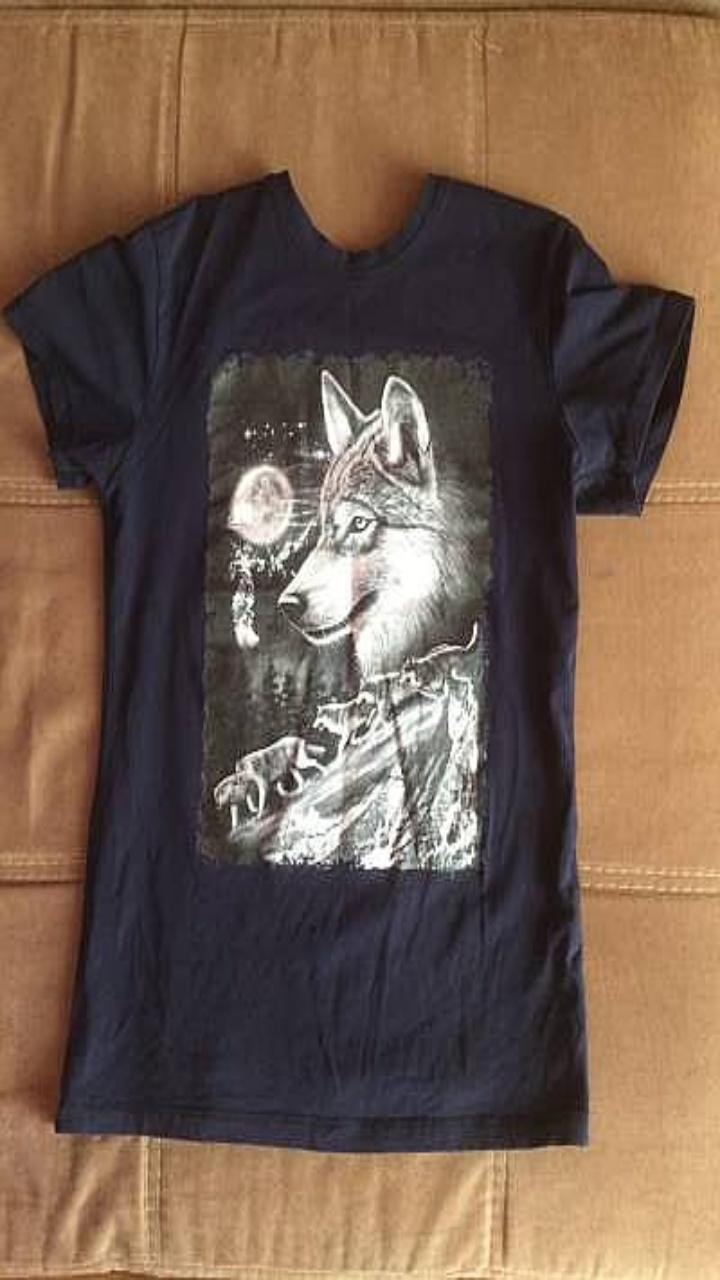T-Shirt: (3, 170, 694, 1150)
